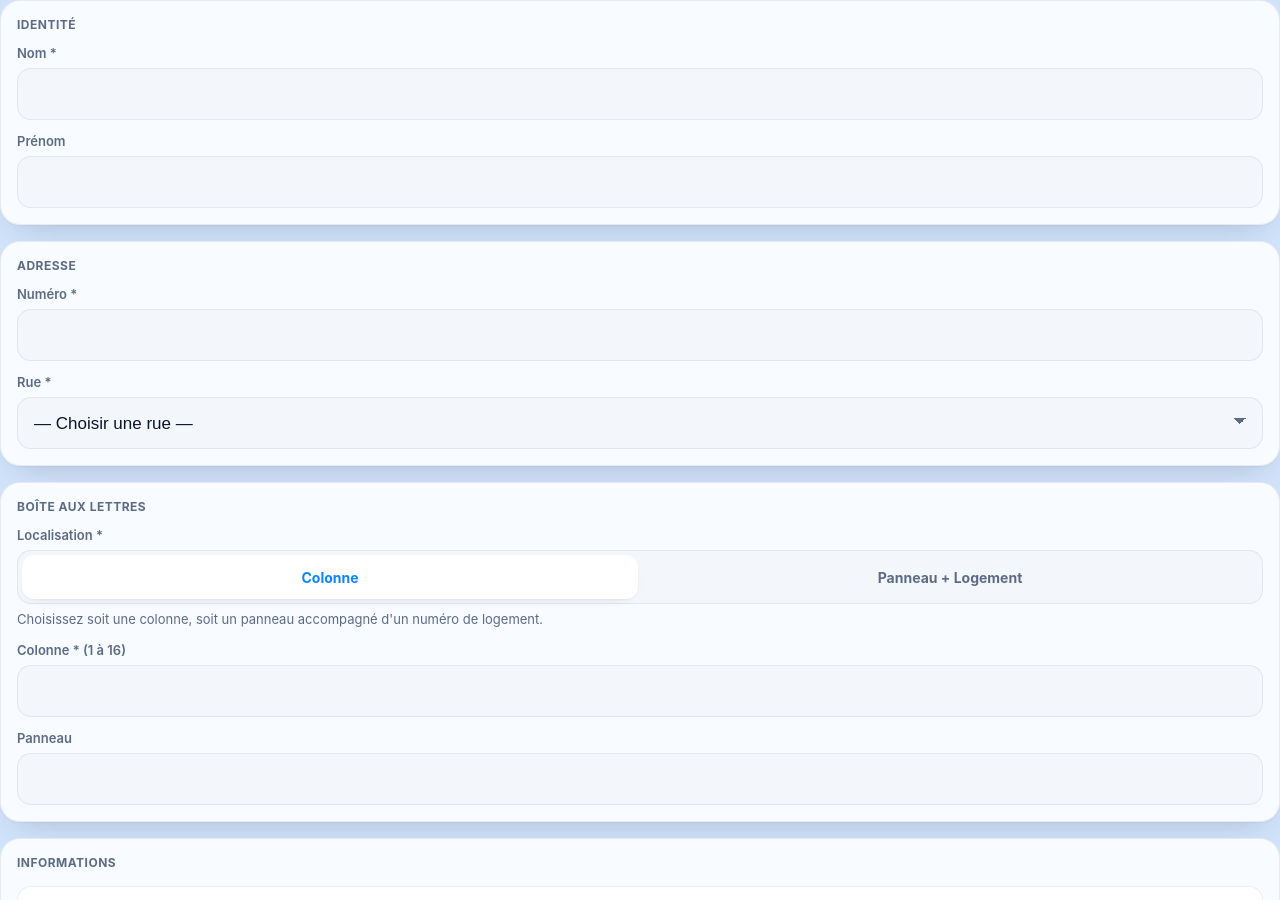
Test case: PersonForm › bascule vers Panneau + Logement : le champ Colonne disparaît, Logement apparaît
This screenshot has width=1280, height=900.
Click the tab "Panneau + Logement".
click(950, 577)  # box [642,555,1258,599]
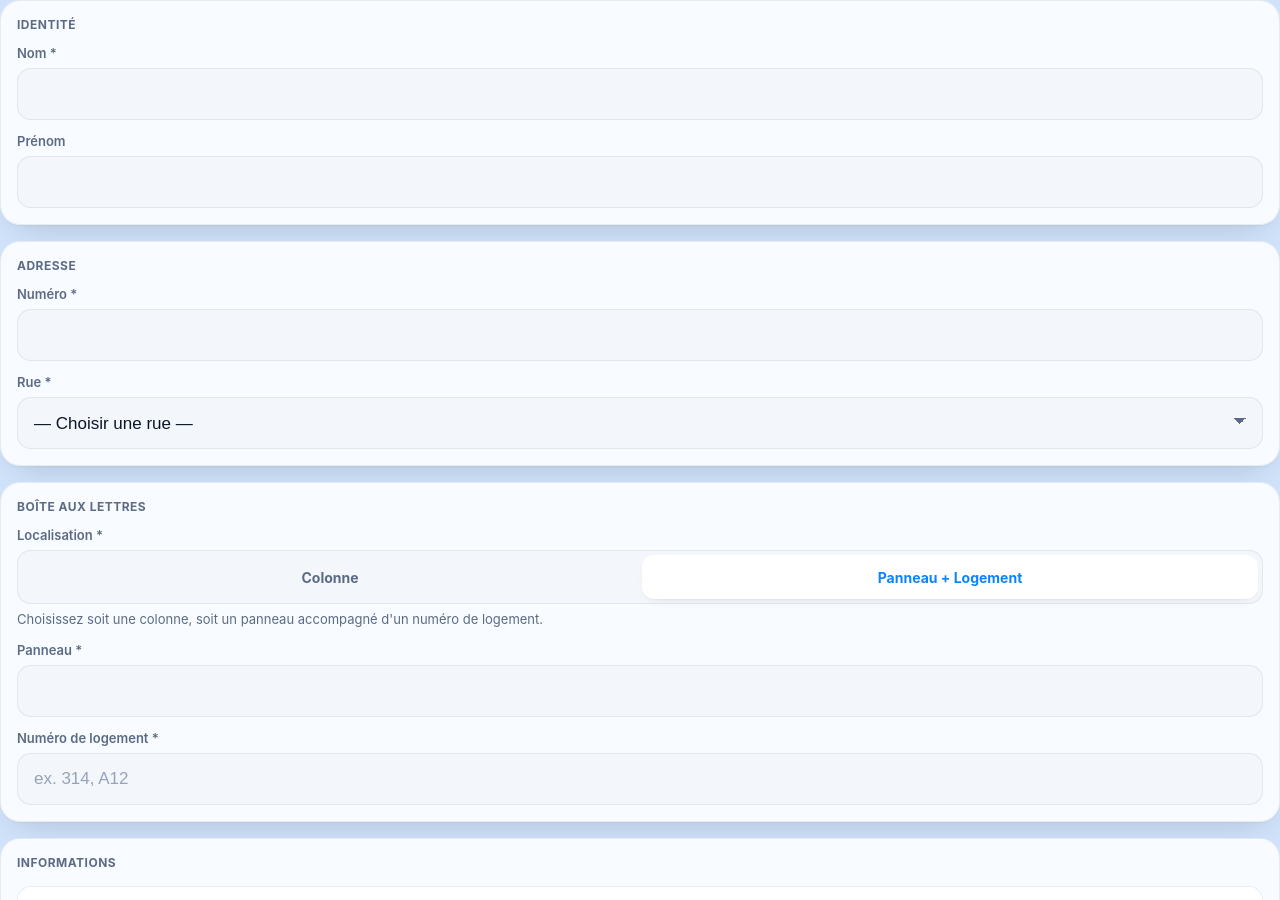
Expected: the field labelled "Numéro de logement *" is shown, [17,753,1263,805]
Expected: the text labelled "Colonne *" is gone
